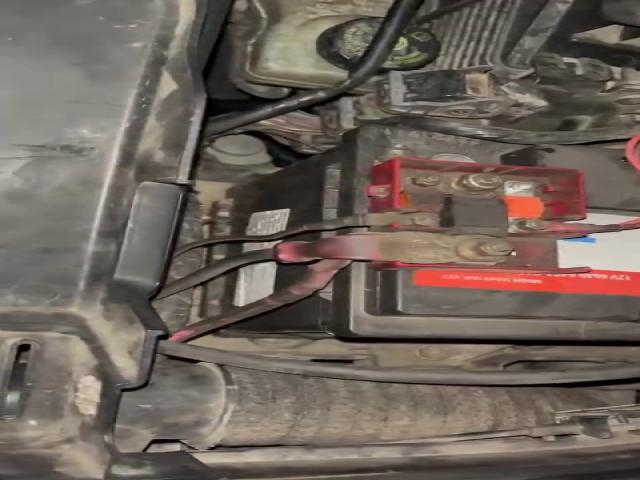accumulator: (195, 125, 633, 343)
